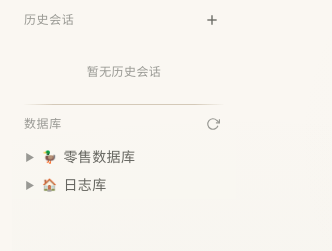
Test: Sidebar › renders database tree on click
Click the text "零售数据库" at (99, 156), box [63,148,135,165]
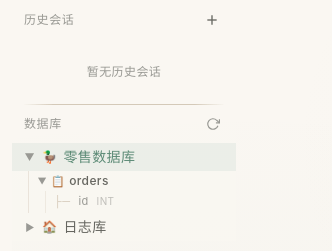
Result: the text "orders" is shown at [69,173,109,189]
